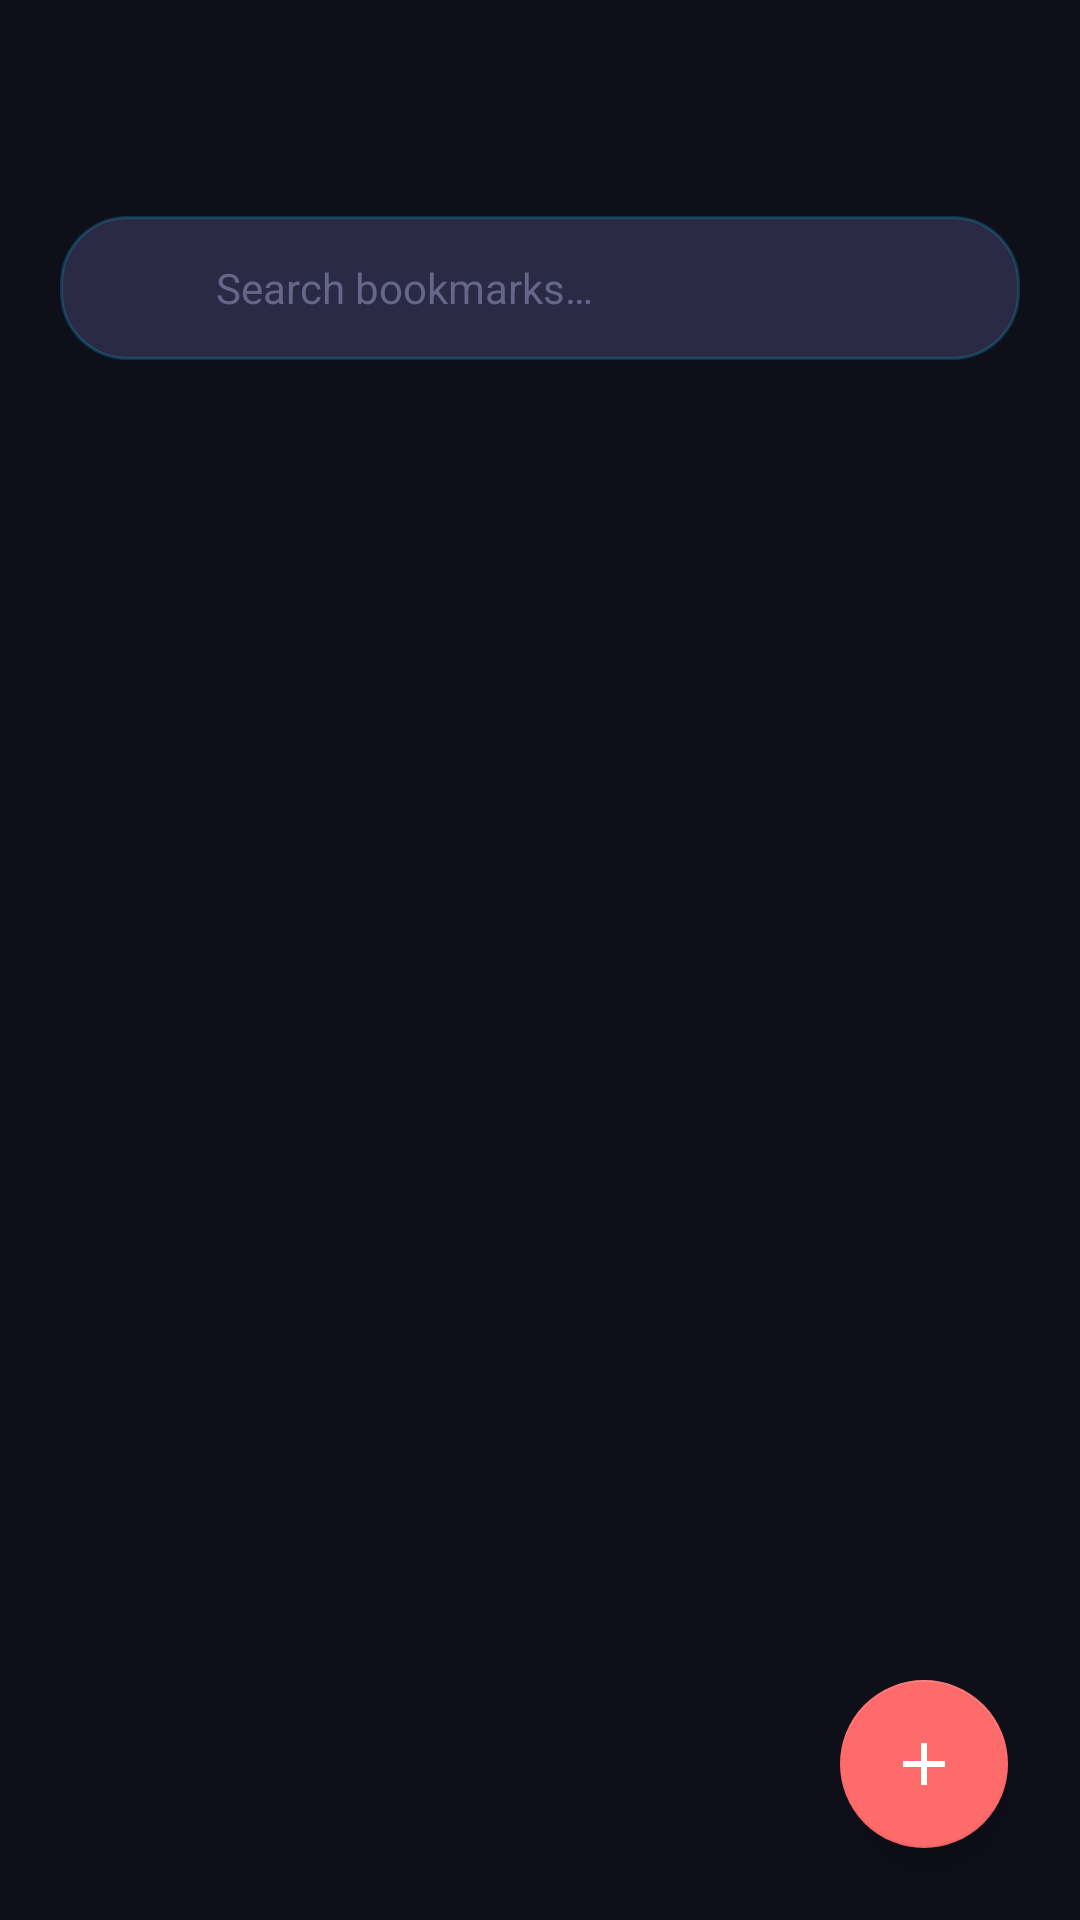

Icons on this 1080px×1920px Android screen, each with the point to tap as (x,y):
Add Bookmark: (924,1764)
